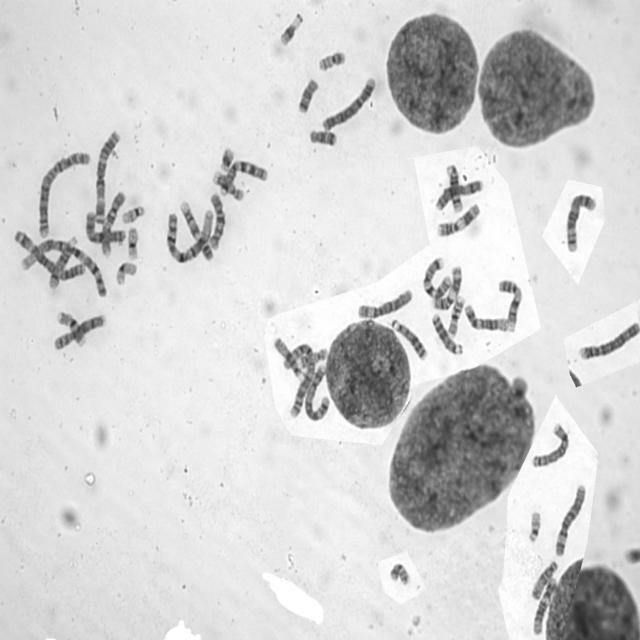A1: (20, 237, 108, 298), (164, 206, 215, 263)
A2: (35, 147, 91, 240), (284, 338, 316, 421)
A3: (13, 229, 87, 281), (92, 125, 121, 228)
B4: (320, 73, 378, 133), (576, 317, 640, 361)
B5: (563, 188, 598, 253), (302, 360, 331, 422)
C10: (100, 186, 126, 256), (207, 190, 227, 250)
C11: (434, 200, 482, 238), (431, 262, 464, 310)
C12: (531, 574, 558, 637), (462, 302, 511, 334)
C6: (551, 479, 588, 558), (355, 285, 414, 321)
C7: (215, 158, 269, 198), (421, 256, 452, 302)
C8: (51, 310, 107, 352), (529, 418, 571, 469)
C9: (177, 198, 215, 262), (496, 274, 524, 332)
D13: (389, 314, 429, 362), (430, 310, 464, 356)
D14: (44, 232, 80, 289), (442, 161, 463, 213)
D15: (271, 334, 304, 379), (529, 557, 559, 601)
E16: (54, 308, 87, 348), (445, 292, 466, 338)
E17: (210, 167, 244, 202), (297, 345, 328, 372)
E18: (295, 74, 320, 115), (307, 126, 338, 148)
F19: (114, 258, 138, 286), (125, 223, 140, 260)
F20: (315, 46, 348, 72), (386, 558, 412, 587)
G21: (277, 8, 305, 47), (217, 142, 236, 172)
G22: (525, 506, 543, 544), (119, 200, 146, 224)
X: (432, 175, 484, 212), (82, 207, 127, 246)
